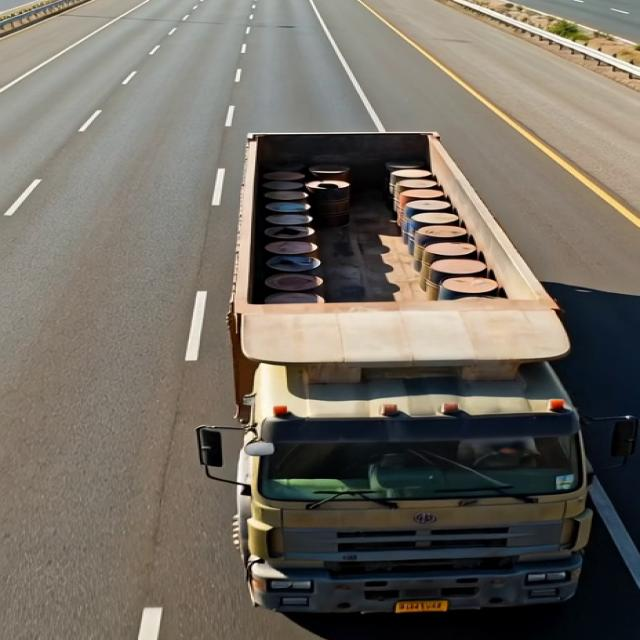trailer: (184, 131, 562, 357)
truck: (160, 122, 605, 615)
